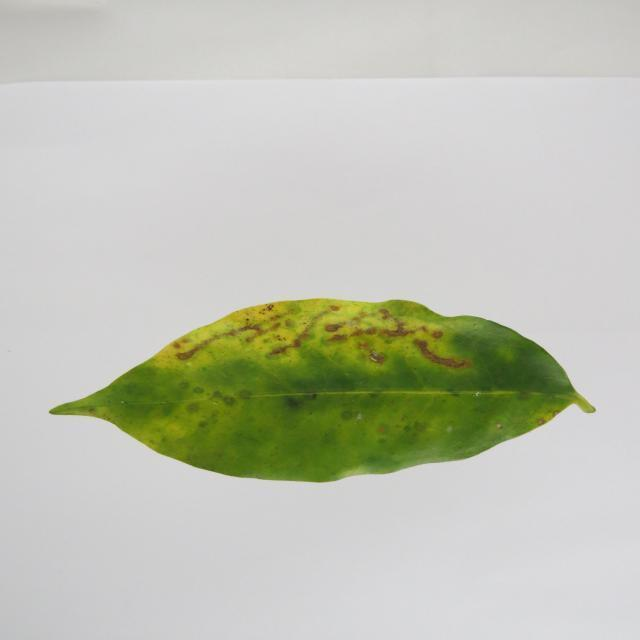DeficienciaNutricional-Nitrogeno: (50, 299, 593, 482)
